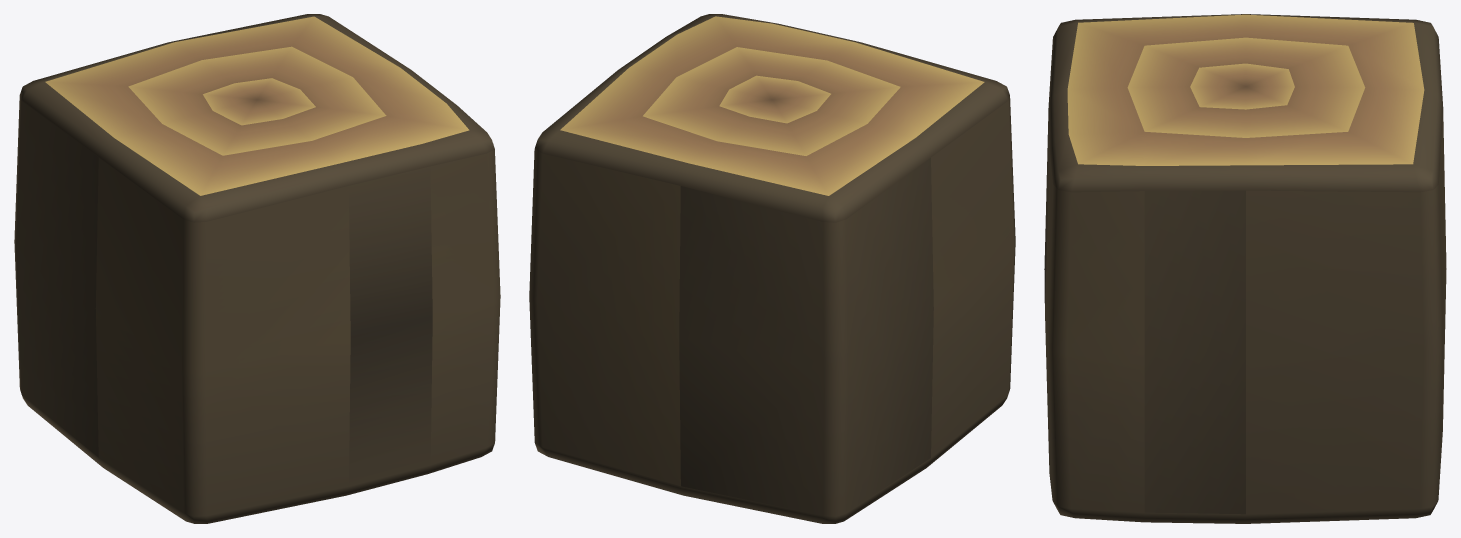
Rendered from wooden_cubes1.fbx.
The picture shows the model from 3 angles, left to right: view 1: azimuth 30°, elevation 25°; view 2: azimuth 150°, elevation 25°; view 3: azimuth 270°, elevation 25°; orthographic projection. The views are drawn at different scales.
Visible parts, largest first — view 1: wooden_cubes1; view 2: wooden_cubes1; view 3: wooden_cubes1.
Boxes of the visible parts, bbox=[...] form: wooden_cubes1: bbox=[14, 14, 500, 523]; wooden_cubes1: bbox=[529, 14, 1015, 523]; wooden_cubes1: bbox=[1044, 14, 1446, 523].
Bounding box in the file's own units: 10857 × 10868 × 10861.
Materials: 1 (1 with a texture image).
